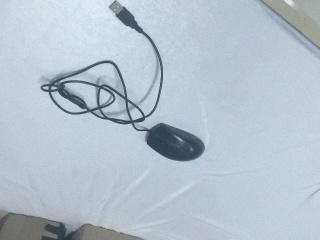box: (1, 211, 68, 240)
mouse: (145, 122, 206, 163)
